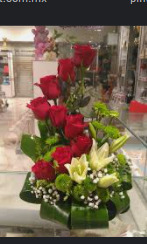RedRose: (72, 42, 100, 74), (36, 72, 64, 101), (21, 97, 52, 122), (54, 146, 80, 175), (54, 58, 79, 85), (65, 112, 88, 141)
